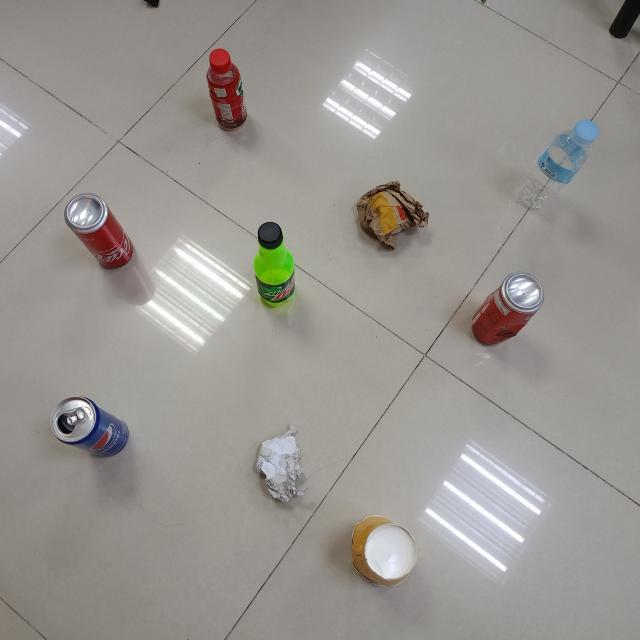recyclable waste: (514, 117, 606, 213), (467, 267, 551, 351), (350, 177, 436, 256), (346, 506, 422, 594), (57, 188, 137, 271), (44, 391, 134, 461), (252, 420, 310, 510), (250, 218, 300, 312), (204, 45, 252, 136)
